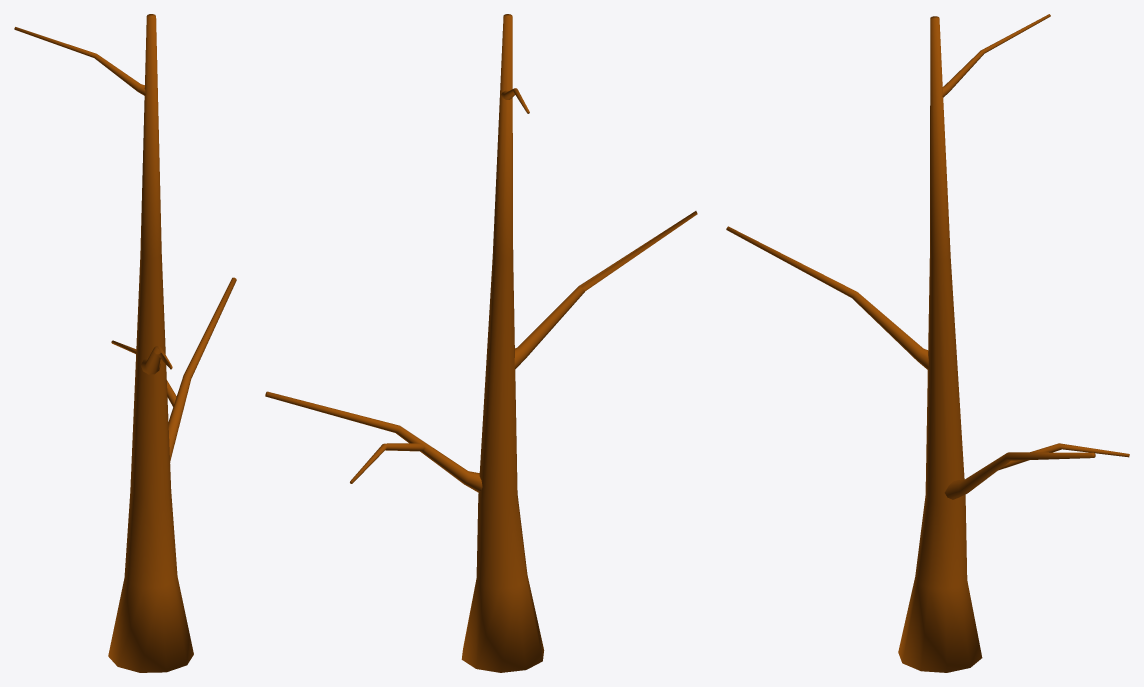
File: tallNoLeaves.obj
3 views of the same model, side by side, from view 1: azimuth 30°, elevation 25°; view 2: azimuth 150°, elevation 25°; view 3: azimuth 270°, elevation 25° (orthographic).
Size of the model in its own units: 2.24 by 5.49 by 3.16.
